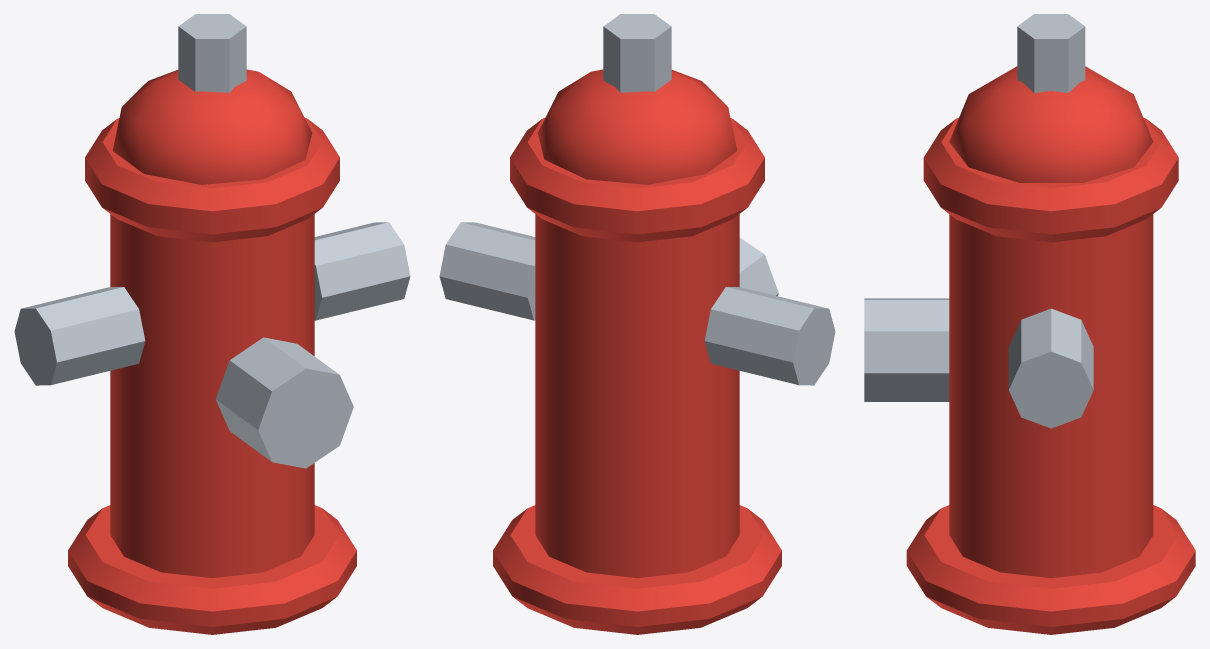
The model's file is hydrant.glb.
3 views of the same model, side by side, from view 1: azimuth 30°, elevation 25°; view 2: azimuth 150°, elevation 25°; view 3: azimuth 270°, elevation 25° (orthographic).
Parts seen in each view (by area): view 1: hydrant; view 2: hydrant; view 3: hydrant.
Boxes of the visible parts, x1,y1,x2,y2 form: hydrant: [14, 14, 410, 634]; hydrant: [439, 14, 835, 634]; hydrant: [864, 14, 1195, 634].
Size of the model in its own units: 0.48 by 0.72 by 0.39.
1 material, 1 textured.
